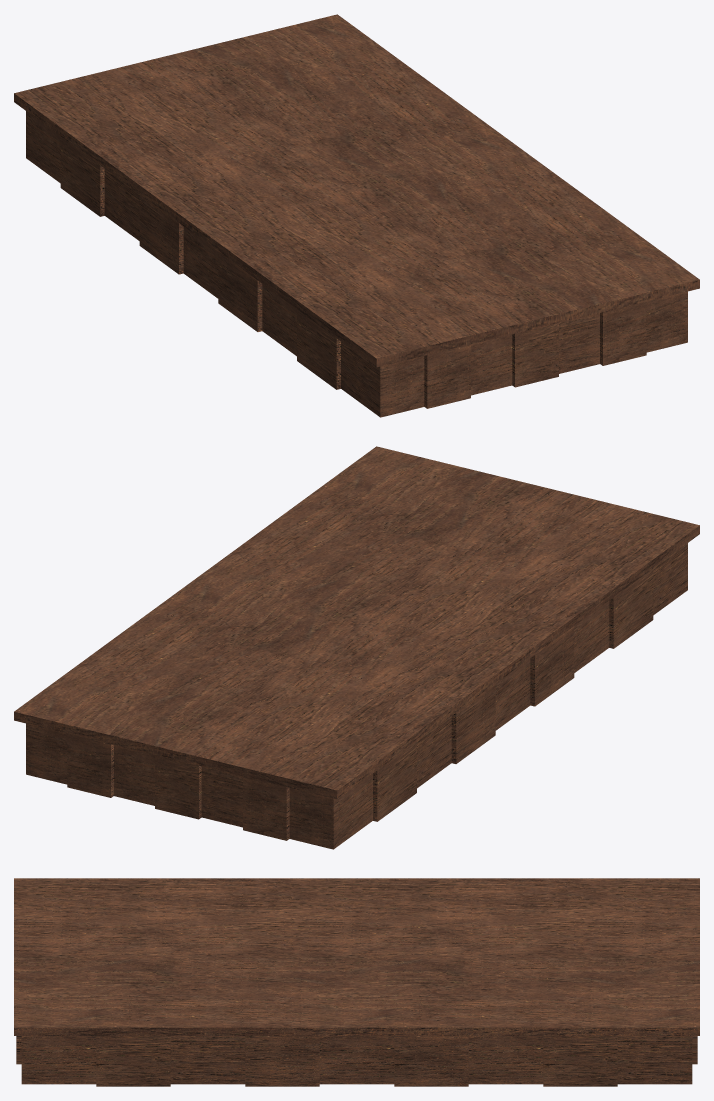
3 renders of one model, top to bottom at view 1: azimuth 30°, elevation 25°; view 2: azimuth 150°, elevation 25°; view 3: azimuth 270°, elevation 25°, orthographic. The views are drawn at different scales.
Visible parts, largest first — view 1: Cube; view 2: Cube; view 3: Cube.
Boxes of the visible parts, left/top/right/bottom form: Cube: left=14, top=14, right=699, bottom=417; Cube: left=14, top=446, right=699, bottom=849; Cube: left=14, top=878, right=699, bottom=1086.
Size of the model in its own units: 4.22 by 0.7962 by 8.19.
Materials: 1 (1 with a texture image).
